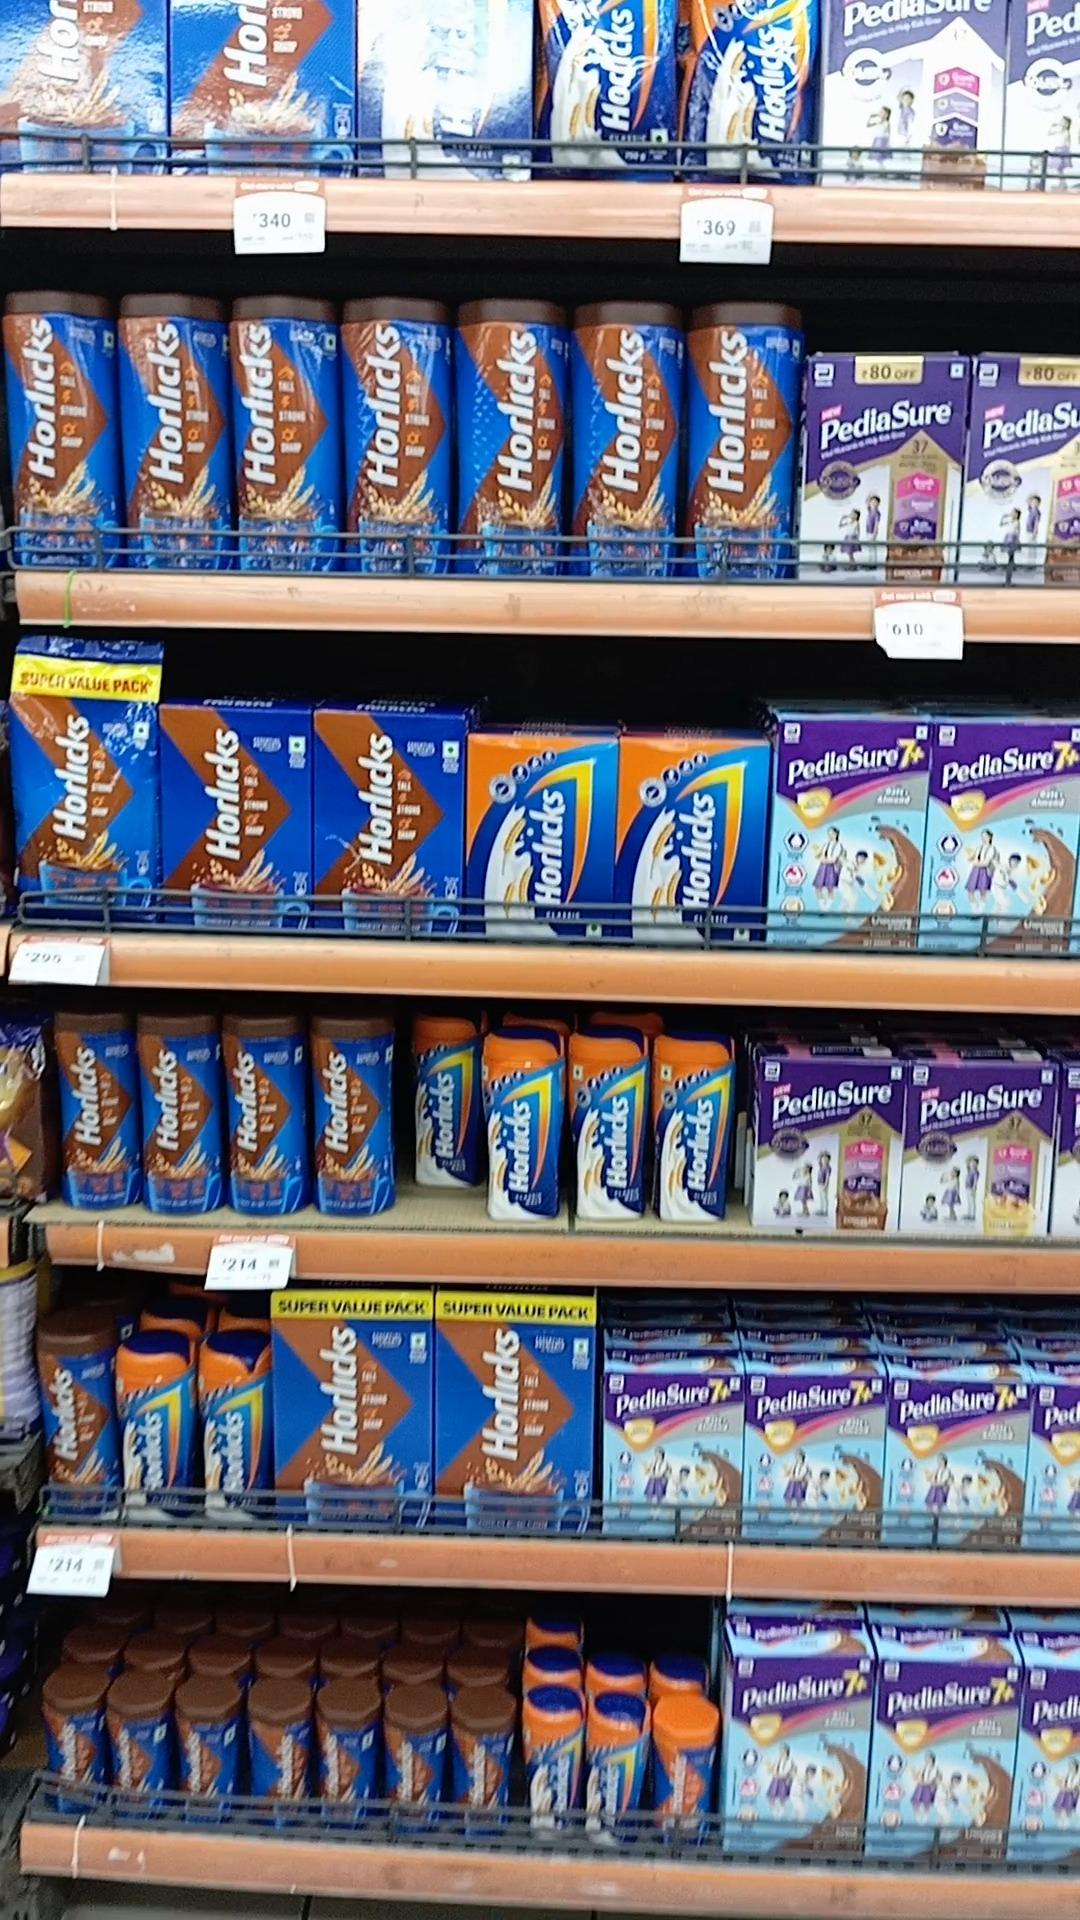COMPLAN_RC_POUCH_700_GMS_12: (53, 1010, 136, 1212)
HORLICK_CHOCOLATE_1_KG_JAR: (456, 293, 562, 574), (570, 297, 675, 570), (5, 293, 111, 559), (125, 291, 225, 566), (688, 302, 790, 571), (237, 297, 335, 567), (344, 295, 442, 562)
HORLICK_CHOCOLATE_1_KG_PACK: (436, 1292, 591, 1538), (278, 1292, 430, 1526)
HORLICK_CHOCOLATE_200_G_JAR: (45, 1663, 105, 1813), (111, 1665, 171, 1809), (178, 1673, 239, 1816), (451, 1683, 509, 1830), (385, 1684, 447, 1820), (320, 1684, 377, 1826), (251, 1687, 307, 1815)
HORLICK_CHOCOLATE_500_G_JAR: (307, 1019, 394, 1217), (140, 1011, 216, 1216), (224, 1013, 301, 1215), (38, 1319, 107, 1511)
HORLICK_CHOCOLATE_500_G_PACK: (162, 702, 307, 926), (316, 709, 459, 935)
HORLICK_CHOCOLATE_750_G_POUCH: (15, 637, 153, 923)
HORLICK_CLASSIC_MALT_200_G_JAR: (587, 1688, 645, 1826), (522, 1687, 575, 1830)
HORLICK_CLASSIC_MALT_500_G_JAR: (484, 1030, 562, 1216), (570, 1040, 646, 1218), (199, 1335, 270, 1526), (658, 1039, 731, 1226), (115, 1342, 190, 1516), (410, 1017, 477, 1189)
HORLICK_CLASSIC_MALT_500_G_PACK: (471, 733, 609, 935), (622, 740, 762, 936)
PEDIASURE_7_PLUS_CHOCOLATE_400_G_PACK: (932, 717, 1072, 949), (778, 721, 924, 939), (729, 1658, 868, 1842), (876, 1663, 996, 1861), (745, 1374, 880, 1544), (600, 1370, 738, 1535), (886, 1379, 1017, 1545)
PEDIASURE_CHOCOLATE_500_G_PACK: (804, 355, 956, 574), (754, 1052, 889, 1232)
PEDIASURE_VANILLA_500_G_PACK: (903, 1064, 1043, 1232)
